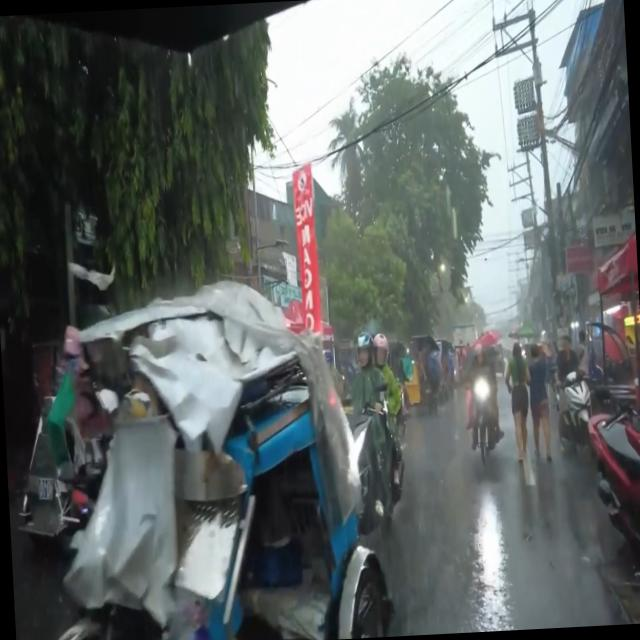half: (354, 331, 374, 368), (372, 332, 391, 369), (472, 342, 486, 369)
